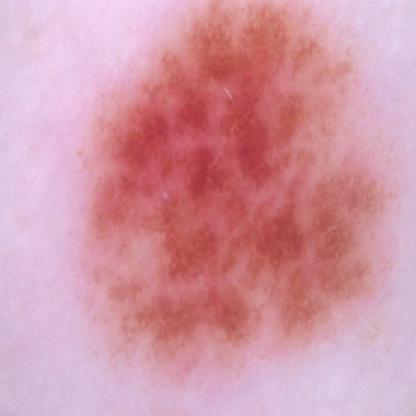benign: (89, 2, 398, 338)
